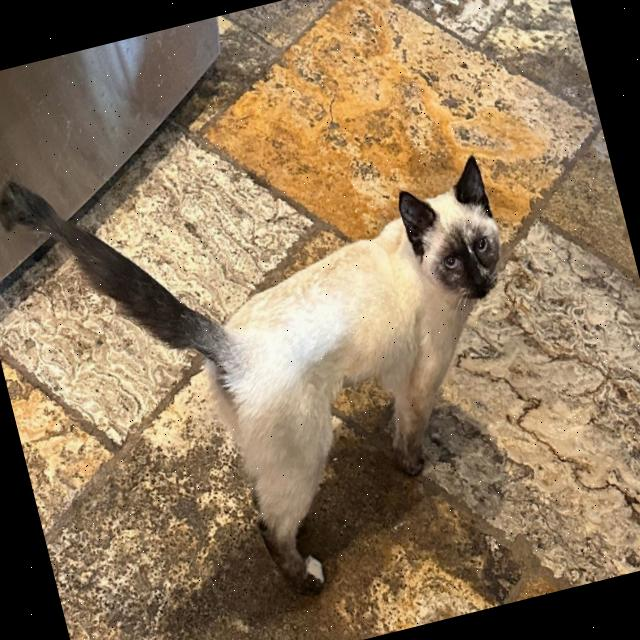siamese_cat: (375, 142, 533, 328)
